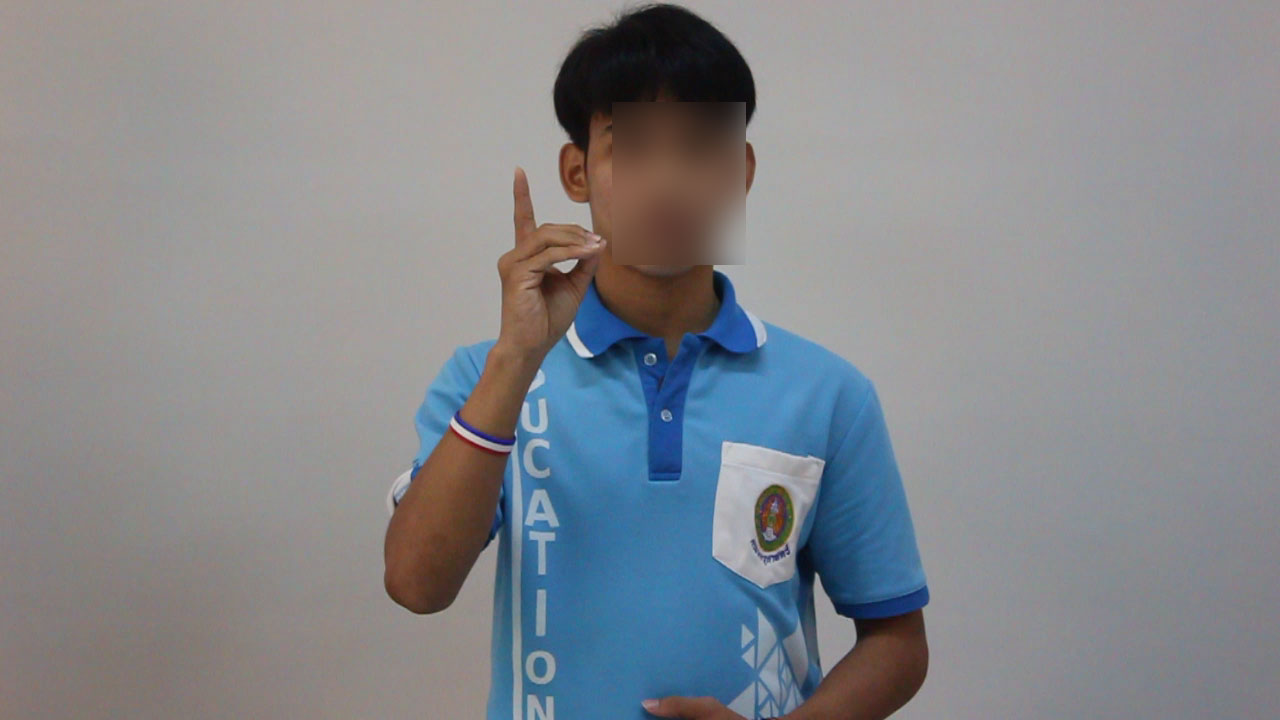dor: (485, 155, 615, 361)
